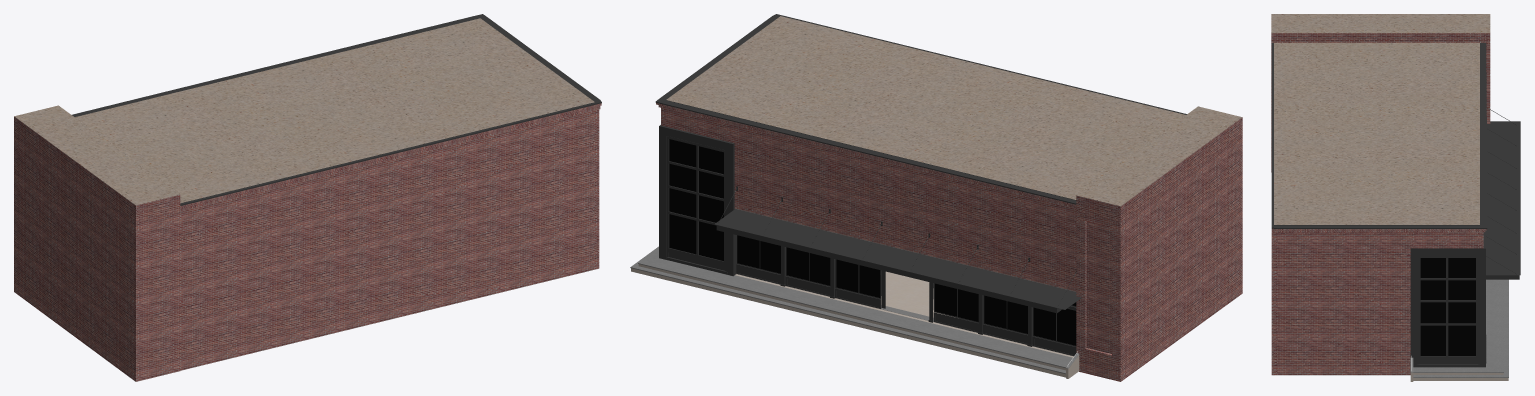
The model's file is RetailStoreHorizon.fbx.
The picture shows the model from 3 angles, left to right: view 1: azimuth 30°, elevation 25°; view 2: azimuth 150°, elevation 25°; view 3: azimuth 270°, elevation 25°; orthographic projection. The views are drawn at different scales.
Parts seen in each view (by area): view 1: Box061; view 2: Box061, Box080, Ground, Box107, Line020; view 3: Box061, Box080, Box107, Ground, Line020.
Boxes of the visible parts, x1,y1,x2,y2 form: Box061: [14, 14, 601, 381]; Box061: [655, 14, 1242, 381]; Box080: [659, 125, 1076, 355]; Ground: [630, 246, 1079, 378]; Box107: [714, 209, 1081, 309]; Line020: [716, 186, 1076, 312]; Box061: [1271, 14, 1490, 375]; Box080: [1410, 230, 1486, 367]; Box107: [1486, 121, 1520, 275]; Ground: [1410, 279, 1508, 381]; Line020: [1486, 107, 1519, 279].
Size of the model in its own units: 3063 by 1071 by 1526.
Materials: 15 (8 with a texture image).
